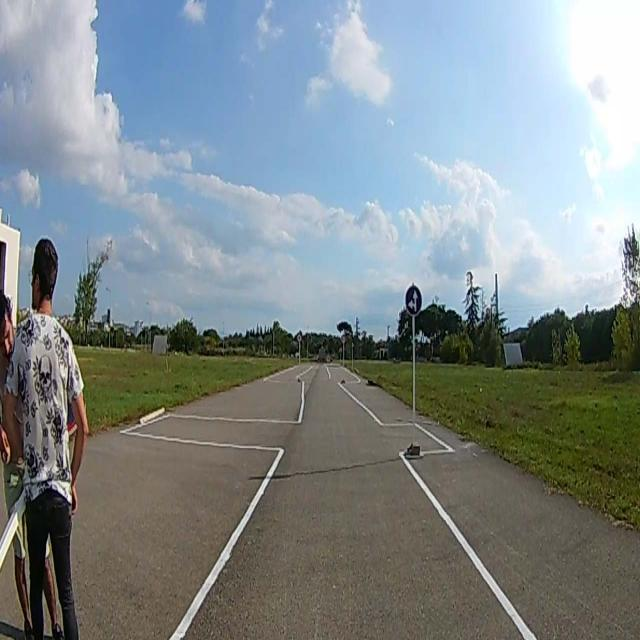ilerisol: (404, 285, 422, 314)
